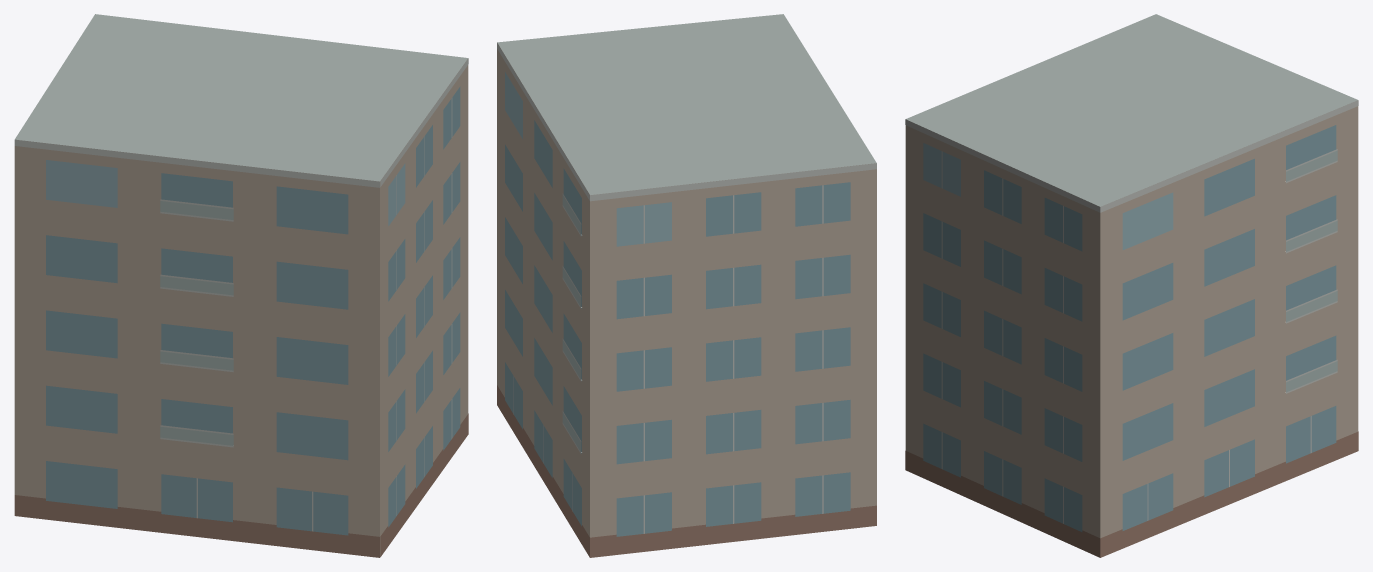
The model's file is survey-upis-32842759.glb.
The picture shows the model from 3 angles, left to right: view 1: azimuth 30°, elevation 25°; view 2: azimuth 150°, elevation 25°; view 3: azimuth 270°, elevation 25°; orthographic projection. The views are drawn at different scales.
Visible parts, largest first — view 1: survey-upis-32842759.tmp; view 2: survey-upis-32842759.tmp; view 3: survey-upis-32842759.tmp.
Part boxes in pixels (bbox=[...]): survey-upis-32842759.tmp: bbox=[14, 14, 468, 557]; survey-upis-32842759.tmp: bbox=[497, 14, 876, 557]; survey-upis-32842759.tmp: bbox=[905, 14, 1358, 557].
Bounding box in the file's own units: 17.04 × 14.45 × 16.91.
